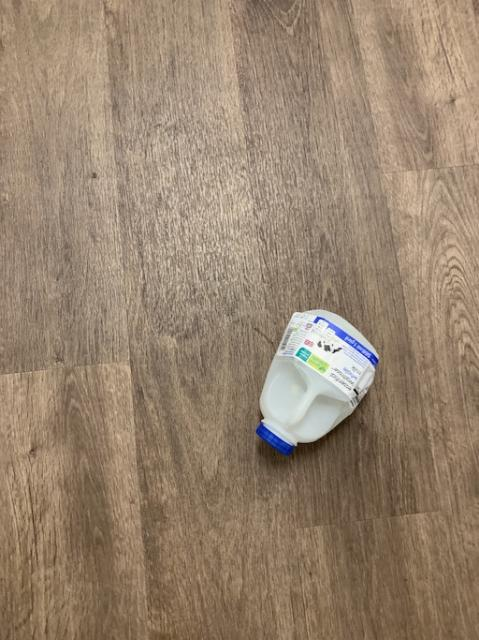plastic: (256, 309, 377, 454)
